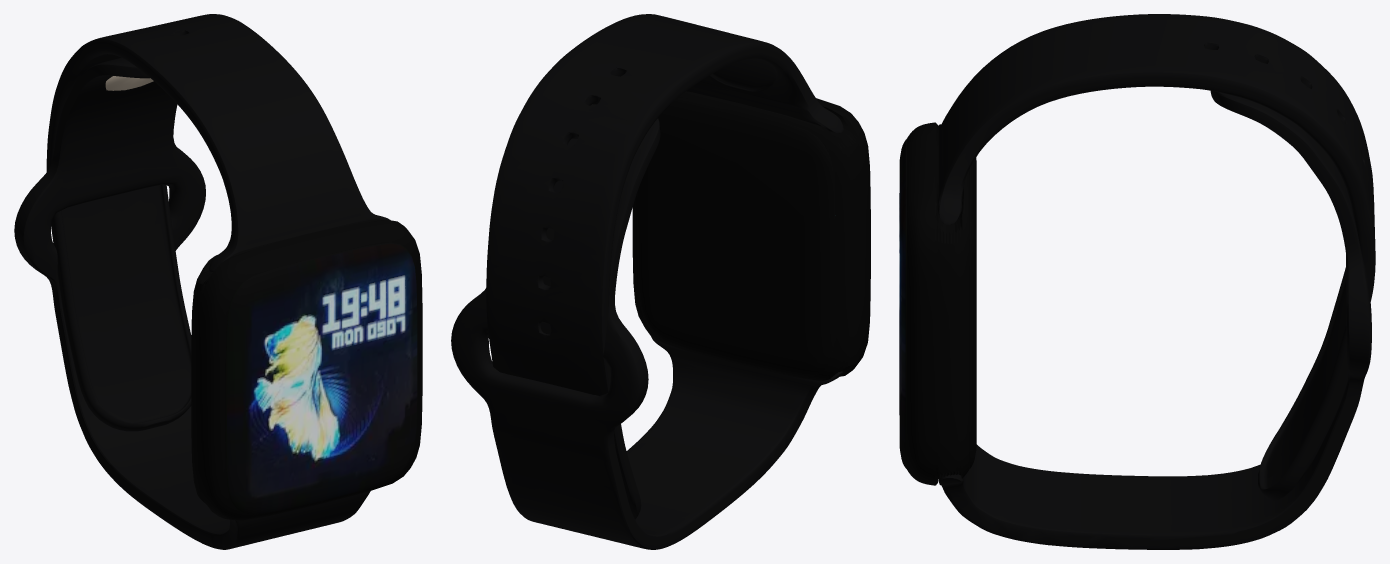
The model's file is smartwatch.glb.
The picture shows the model from 3 angles, left to right: view 1: azimuth 30°, elevation 25°; view 2: azimuth 150°, elevation 25°; view 3: azimuth 270°, elevation 25°; orthographic projection. The views are drawn at different scales.
Visible parts, largest first — view 1: Object_8, Object_4, Object_5, Object_11; view 2: Object_8, Object_6, Object_5; view 3: Object_8, Object_5, Object_4, Object_6.
Boxes of the visible parts, x1,y1,x2,y2 form: Object_8: [14, 14, 390, 549]; Object_4: [225, 242, 417, 515]; Object_5: [191, 218, 422, 520]; Object_11: [105, 76, 153, 90]; Object_8: [451, 14, 843, 549]; Object_6: [637, 97, 835, 376]; Object_5: [632, 91, 870, 380]; Object_8: [938, 14, 1375, 549]; Object_5: [906, 122, 969, 485]; Object_4: [899, 139, 906, 468]; Object_6: [969, 157, 976, 468].
Bounding box in the file's own units: 0.036 × 0.07 × 0.0631.
5 materials, 1 textured.
